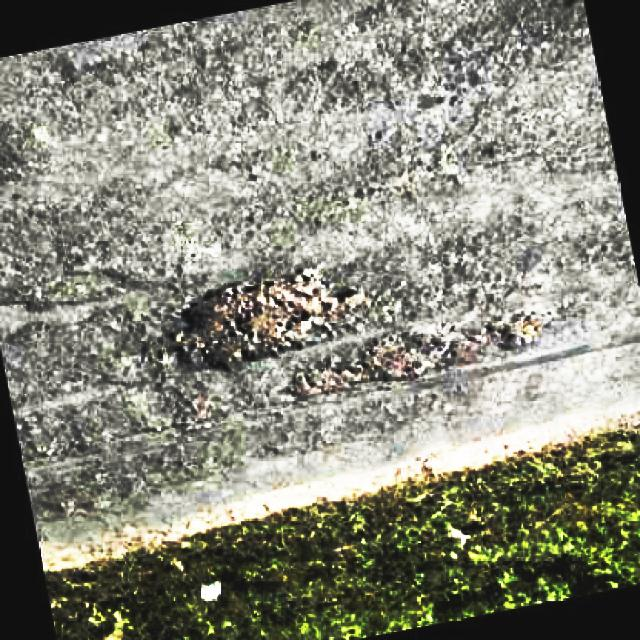pothole: (166, 263, 359, 369), (360, 309, 548, 386)
